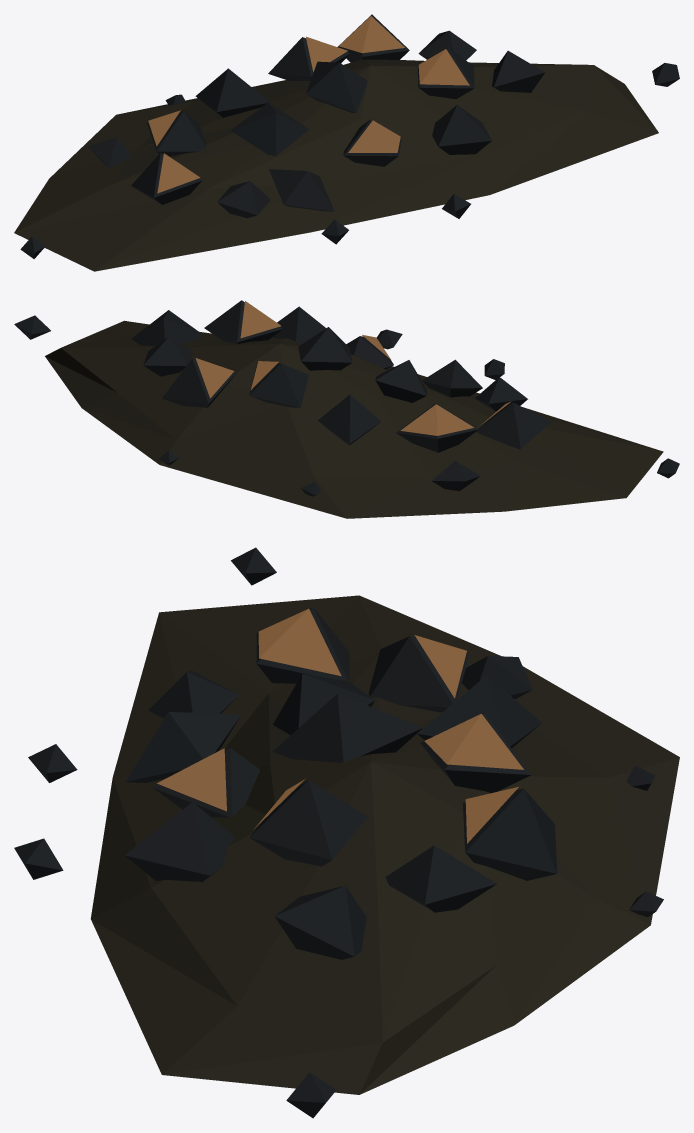
Rendered from env-nodule-bed.glb.
3 renders of one model, top to bottom at view 1: azimuth 30°, elevation 25°; view 2: azimuth 150°, elevation 25°; view 3: azimuth 270°, elevation 25°, orthographic. The views are drawn at different scales.
Visible parts, largest first — view 1: mound, nodule_02, nodule_08, nodule_10, nodule_09, nodule_12, nodule_07, nodule_11, nodule_05, nodule_06_glint, nodule_14, nodule_03 (+12 smaller); view 2: mound, nodule_05, nodule_03, nodule_09, nodule_08, nodule_06, nodule_02, nodule_11, nodule_12, nodule_01, nodule_13, nodule_07_glint (+10 smaller); view 3: mound, nodule_08, nodule_01, nodule_06, nodule_10, nodule_11, nodule_12, nodule_07, nodule_13, nodule_09, nodule_05_glint, nodule_03_glint (+13 smaller).
Boxes of the visible parts, x1,y1,x2,y2 form: mound: (14, 59, 658, 271); nodule_02: (230, 102, 309, 155); nodule_08: (306, 61, 367, 113); nodule_10: (432, 104, 491, 154); nodule_09: (195, 68, 270, 117); nodule_12: (269, 169, 334, 211); nodule_07: (146, 111, 206, 156); nodule_11: (492, 50, 545, 92); nodule_05: (131, 152, 202, 204); nodule_06_glint: (339, 16, 404, 53); nodule_14: (217, 181, 270, 218); nodule_03: (268, 37, 350, 80); mound: (45, 320, 663, 518); nodule_05: (476, 402, 551, 449); nodule_03: (249, 362, 308, 407); nodule_09: (318, 394, 381, 445); nodule_08: (298, 327, 352, 370); nodule_06: (162, 358, 235, 407); nodule_02: (375, 360, 427, 402); nodule_11: (131, 310, 202, 345); nodule_12: (422, 359, 482, 397); nodule_01: (204, 300, 282, 343); nodule_13: (143, 336, 191, 376); nodule_07_glint: (400, 404, 474, 435); mound: (90, 595, 679, 1094); nodule_08: (273, 693, 423, 762); nodule_01: (249, 780, 367, 866); nodule_06: (462, 788, 557, 880); nodule_10: (124, 802, 234, 881); nodule_11: (274, 885, 366, 959); nodule_12: (126, 712, 240, 782); nodule_07: (368, 636, 469, 712); nodule_13: (385, 845, 496, 912); nodule_09: (417, 675, 541, 748); nodule_05_glint: (258, 608, 341, 676); nodule_03_glint: (424, 713, 523, 769).
Size of the model in its own units: 12 by 1.65 by 6.11.
